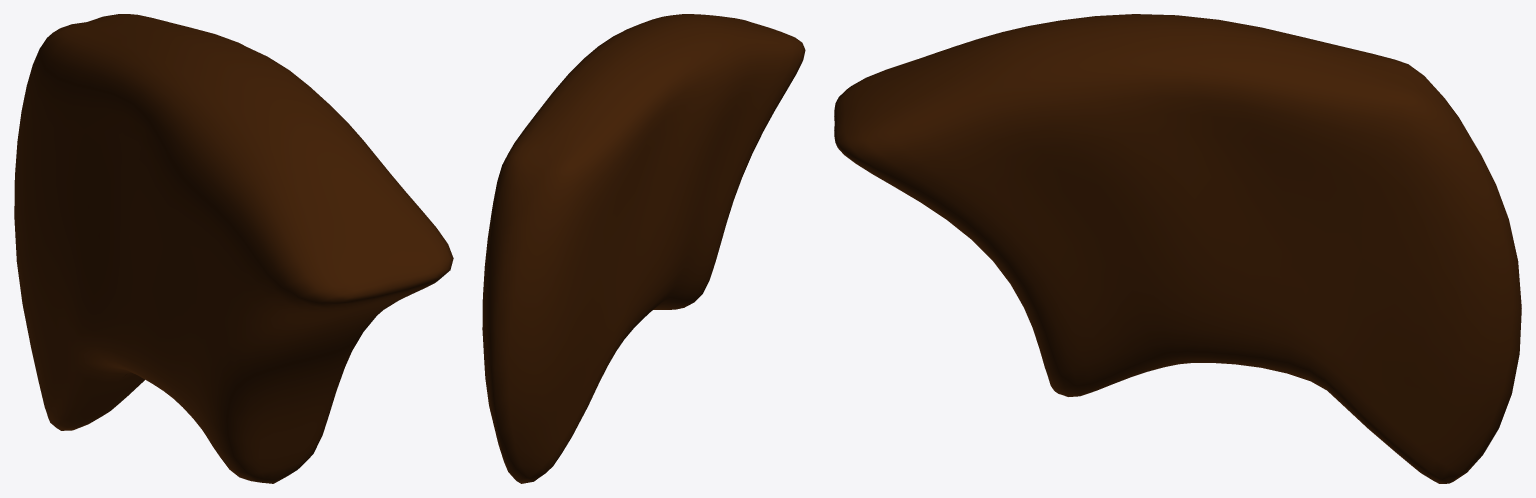
File: Brown_Hair.fbx
The picture shows the model from 3 angles, left to right: view 1: azimuth 30°, elevation 25°; view 2: azimuth 150°, elevation 25°; view 3: azimuth 270°, elevation 25°; orthographic projection. The views are drawn at different scales.
Parts seen in each view (by area): view 1: Brown_Hair_Melee; view 2: Brown_Hair_Melee; view 3: Brown_Hair_Melee.
Part boxes in pixels (x1=…): Brown_Hair_Melee: x1=14, y1=14, x2=453, y2=483; Brown_Hair_Melee: x1=482, y1=14, x2=805, y2=483; Brown_Hair_Melee: x1=834, y1=14, x2=1521, y2=483.
Bounding box in the file's own units: 32.72 × 92.09 × 126.
